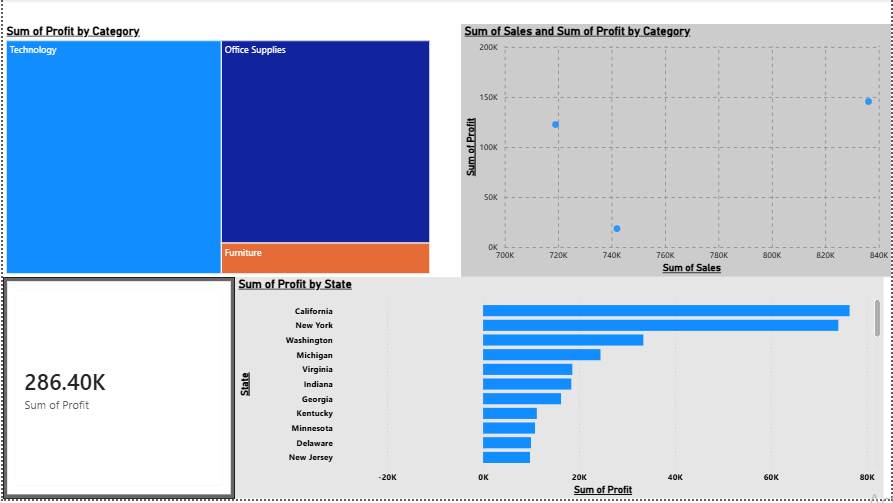

What the dashboard file says about the page in this screenshot:
{"tool":"powerbi","page":{"name":"Page 2","canvas":[1280,720],"ordinal":1},"visuals":[{"type":"treemap","fields":{"Values":["Sum(SampleSuperstore.Profit)"],"Group":["SampleSuperstore.Category"]},"box":[0,36,619.2,364.3],"z":0},{"type":"scatterChart","fields":{"X":["Sum(SampleSuperstore.Sales)"],"Y":["Sum(SampleSuperstore.Profit)"],"Category":["SampleSuperstore.Category"]},"box":[659.5,36,620.6,364.3],"z":1},{"type":"cardVisual","fields":{"Data":["Sum(SampleSuperstore.Profit)"]},"box":[0,400.3,334.1,319.7],"z":3},{"type":"textbox","box":[572.8,601.4,707.2,119.3],"z":4},{"type":"clusteredBarChart","fields":{"Category":["SampleSuperstore.State"],"Y":["Sum(SampleSuperstore.Profit)"]},"box":[334.3,399.8,934,319.2],"z":5}]}

Visuals, with their boxes in screenshot pixels (x1, y1, x2, y2), scaled from the page's 1280x720 canvas onto the 893x503 screenshot:
treemap - Sum(SampleSuperstore.Profit) x SampleSuperstore.Category: rect(0, 25, 432, 280)
scatterChart - Sum(SampleSuperstore.Sales) x Sum(SampleSuperstore.Profit): rect(460, 25, 892, 280)
cardVisual - Sum(SampleSuperstore.Profit): rect(0, 280, 233, 502)
textbox: rect(400, 420, 892, 502)
clusteredBarChart - SampleSuperstore.State x Sum(SampleSuperstore.Profit): rect(233, 279, 885, 502)
